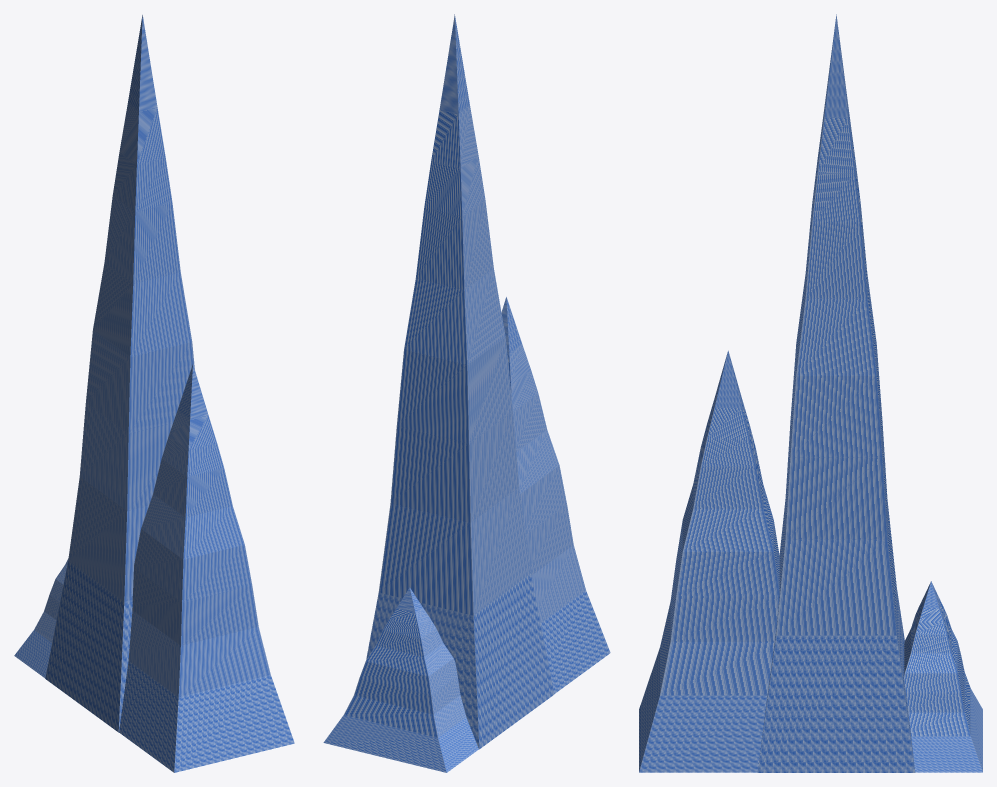
File: turara.FBX
3 views of the same model, side by side, from view 1: azimuth 30°, elevation 25°; view 2: azimuth 150°, elevation 25°; view 3: azimuth 270°, elevation 25° (orthographic). The views are drawn at different scales.
Visible parts, largest first — view 1: Box001, Box002, Box003; view 2: Box001, Box003, Box002; view 3: Box001, Box002, Box003.
Part boxes in pixels (left/top/right/bottom): Box001: left=45, top=15, right=194, bottom=732; Box002: left=119, top=364, right=294, bottom=772; Box003: left=14, top=558, right=68, bottom=678; Box001: left=366, top=14, right=554, bottom=749; Box003: left=323, top=587, right=478, bottom=772; Box002: left=501, top=297, right=610, bottom=693; Box001: left=757, top=14, right=915, bottom=772; Box002: left=639, top=350, right=779, bottom=772; Box003: left=904, top=581, right=982, bottom=772.
Size of the model in its own units: 12.91 by 68.82 by 29.51.
